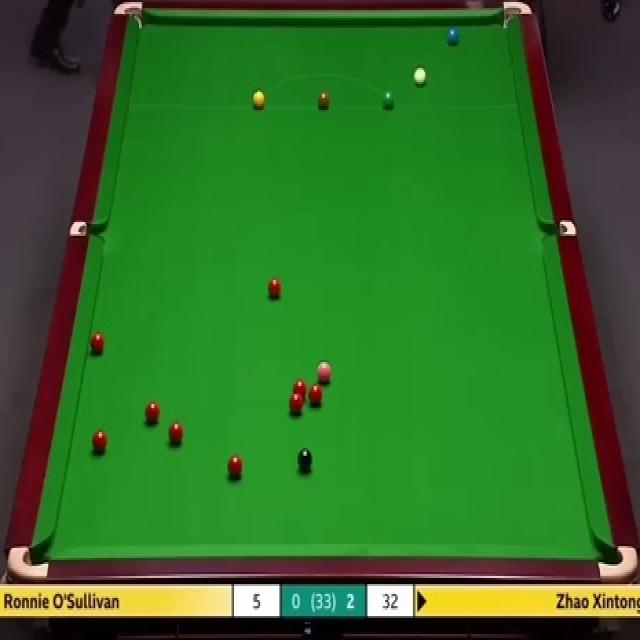pocket: (597, 539, 640, 583), (7, 544, 52, 582), (499, 0, 536, 31), (111, 2, 144, 26), (69, 218, 104, 238), (540, 223, 576, 242)
